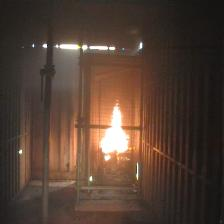fire: (101, 102, 130, 153)
